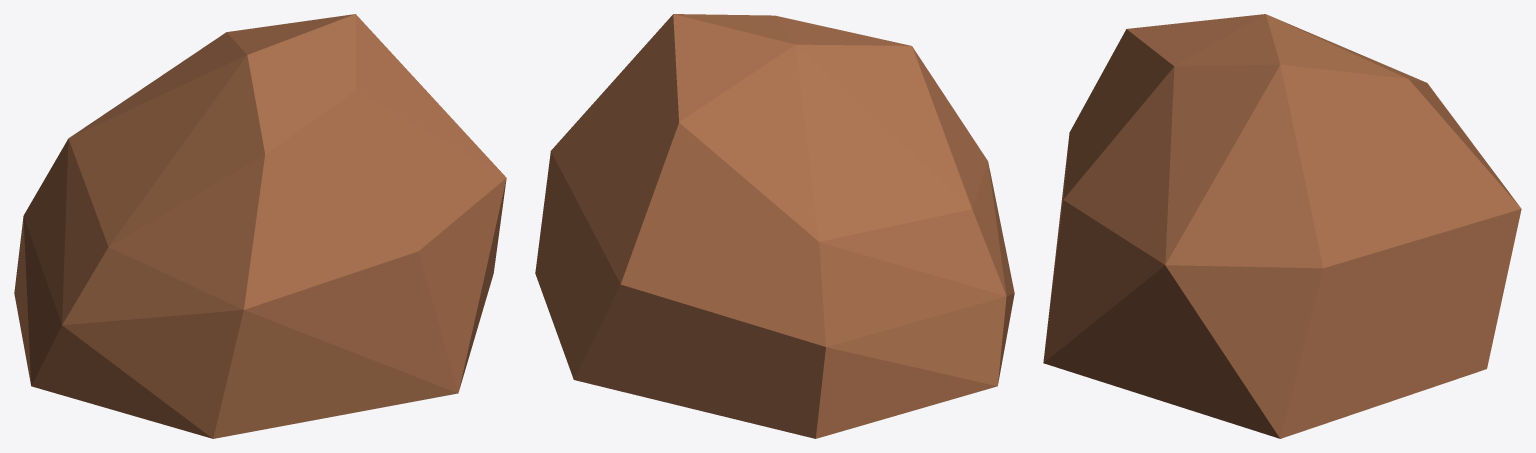
File: Rock002_sand.fbx
The picture shows the model from 3 angles, left to right: view 1: azimuth 30°, elevation 25°; view 2: azimuth 150°, elevation 25°; view 3: azimuth 270°, elevation 25°; orthographic projection. The views are drawn at different scales.
Parts seen in each view (by area): view 1: Rock002; view 2: Rock002; view 3: Rock002.
Boxes of the visible parts, x1,y1,x2,y2 form: Rock002: [14, 14, 506, 438]; Rock002: [535, 14, 1014, 438]; Rock002: [1043, 14, 1521, 438].
Bounding box in the file's own units: 70.28 × 42.56 × 60.59.
